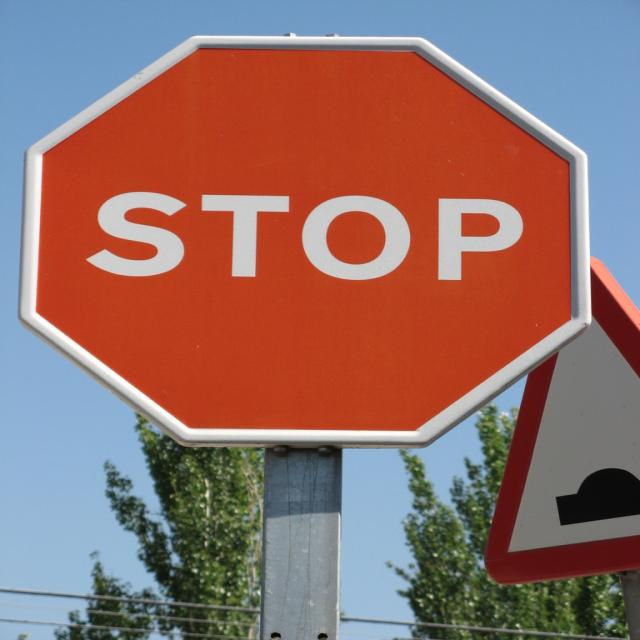Stop-sign: (15, 33, 595, 451)
